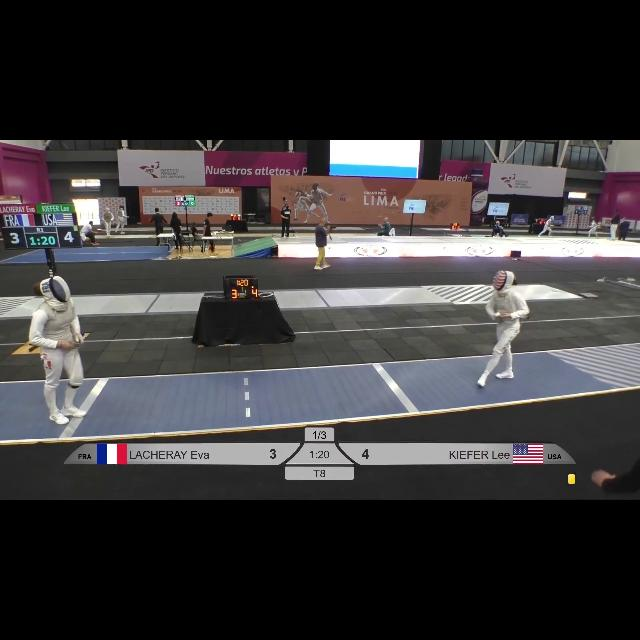blade: (66, 338, 84, 388)
